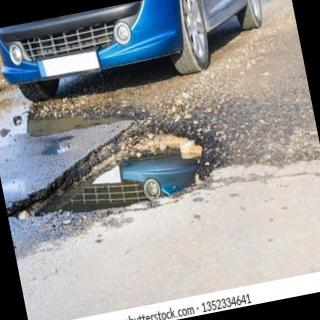pothole: (8, 118, 213, 220)
